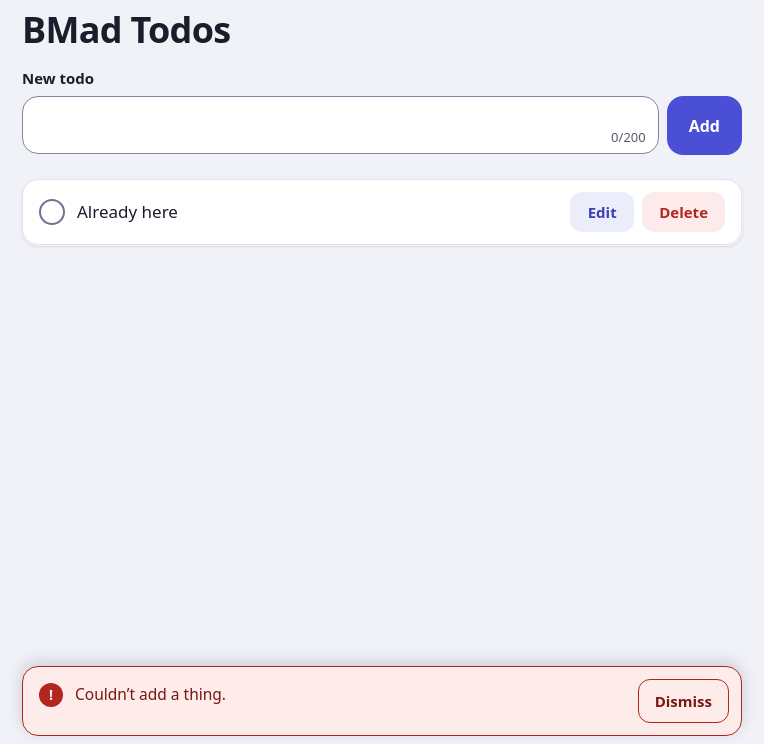
it: Announcer: refresh failures › K7 an undismissed failure is not replaced by a refresh, which is dropped
Check: the number of list items is 1, box [22,179,742,245]
Check: the message reads "Couldn’t add a thing.", box [75,683,226,705]
# Dropped, not queued: dismissing shows nothing.
Step 1. Click the button "Dismiss" → point(683, 701), box [638,679,729,723]
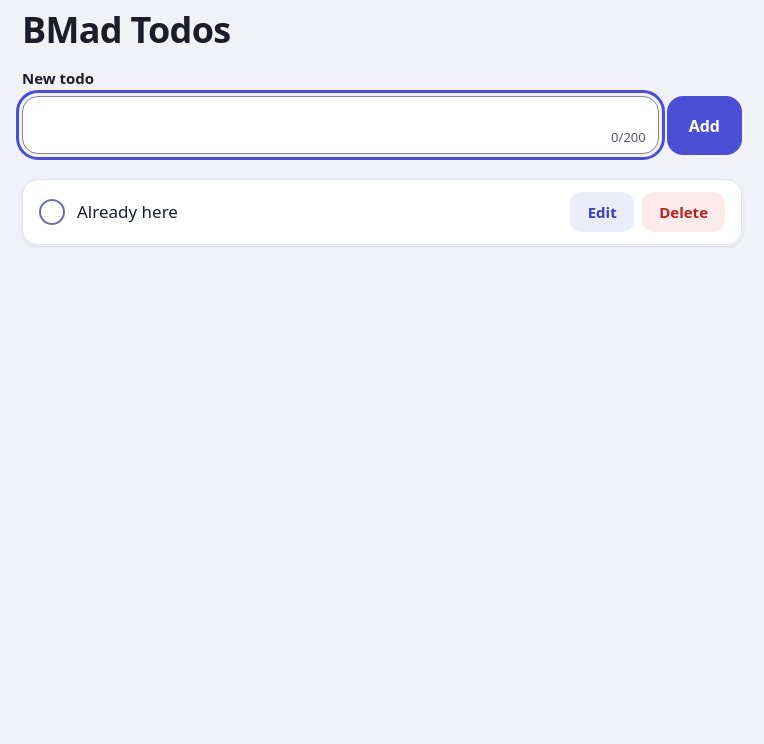
Check: the button "Dismiss" is gone
